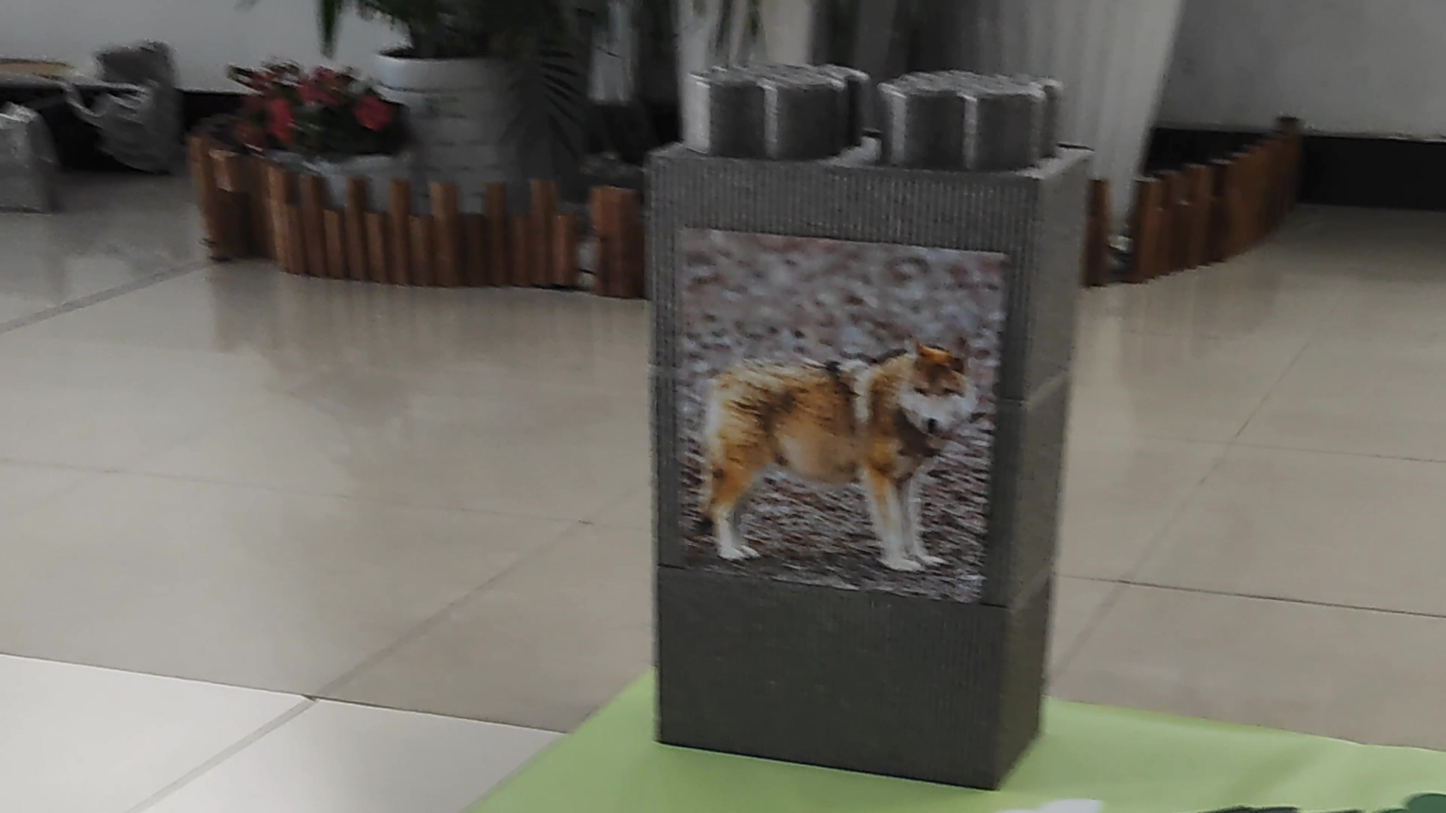wolf: (685, 285, 976, 573)
